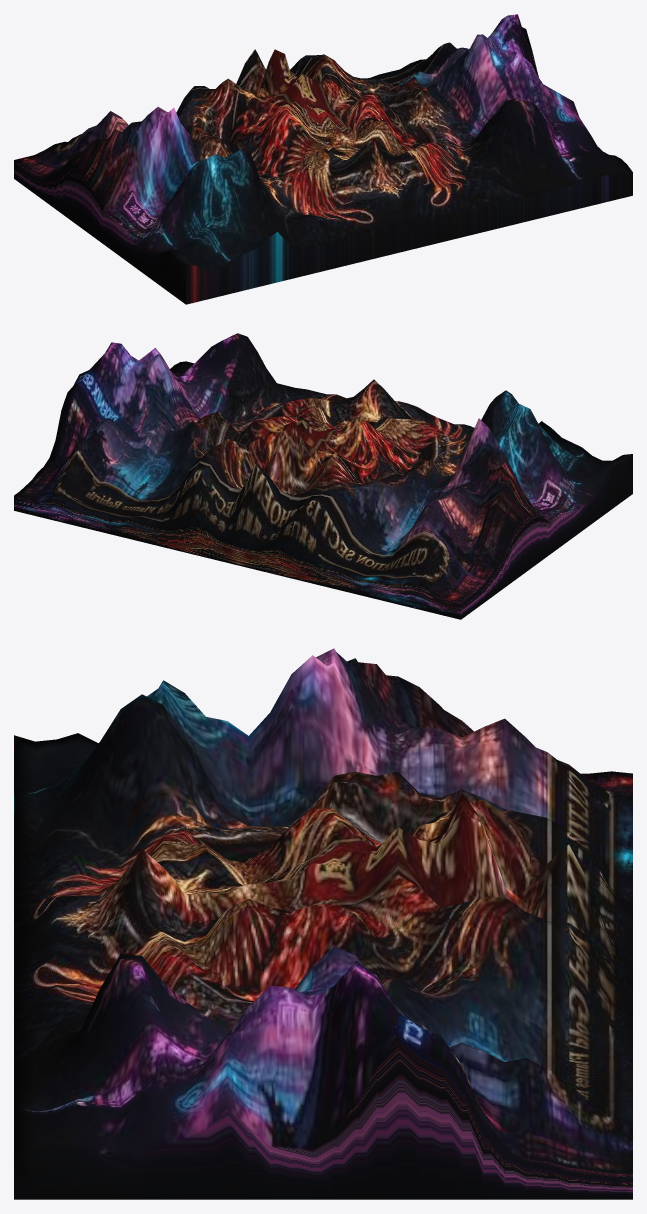
Rendered from SECT_13_Phoenix_Sect.glb.
3 views of the same model, one above another, from view 1: azimuth 30°, elevation 25°; view 2: azimuth 150°, elevation 25°; view 3: azimuth 270°, elevation 25° (orthographic). The views are drawn at different scales.
Parts seen in each view (by area): view 1: SECT_13_Phoenix_Sect; view 2: SECT_13_Phoenix_Sect; view 3: SECT_13_Phoenix_Sect.
Part boxes in pixels (x1=…): SECT_13_Phoenix_Sect: x1=14, y1=14, x2=632, y2=304; SECT_13_Phoenix_Sect: x1=14, y1=333, x2=632, y2=619; SECT_13_Phoenix_Sect: x1=14, y1=648, x2=632, y2=1199.
Bounding box in the file's own units: 2 × 0.51 × 1.33.
1 material, 1 textured.
